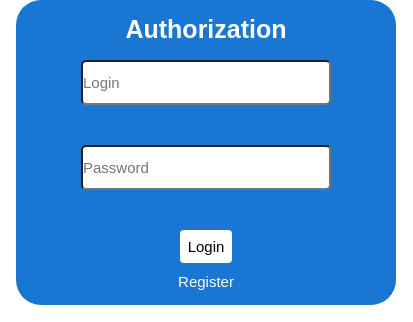
Test: login component › Error element: The field should not be empty
In the password field with test id "passwordInput": coordinates (206, 168) [81,145,331,190], type "Password2"
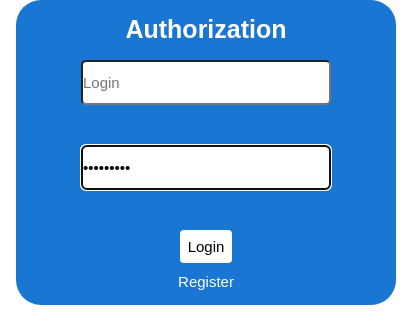
Click the button with test id "loginButton": coordinates (206, 246) [180,230,232,263]
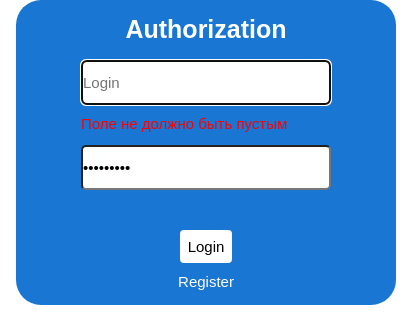
Now the text "Поле не должно быть пустым" is shown, box [81,115,287,132]
